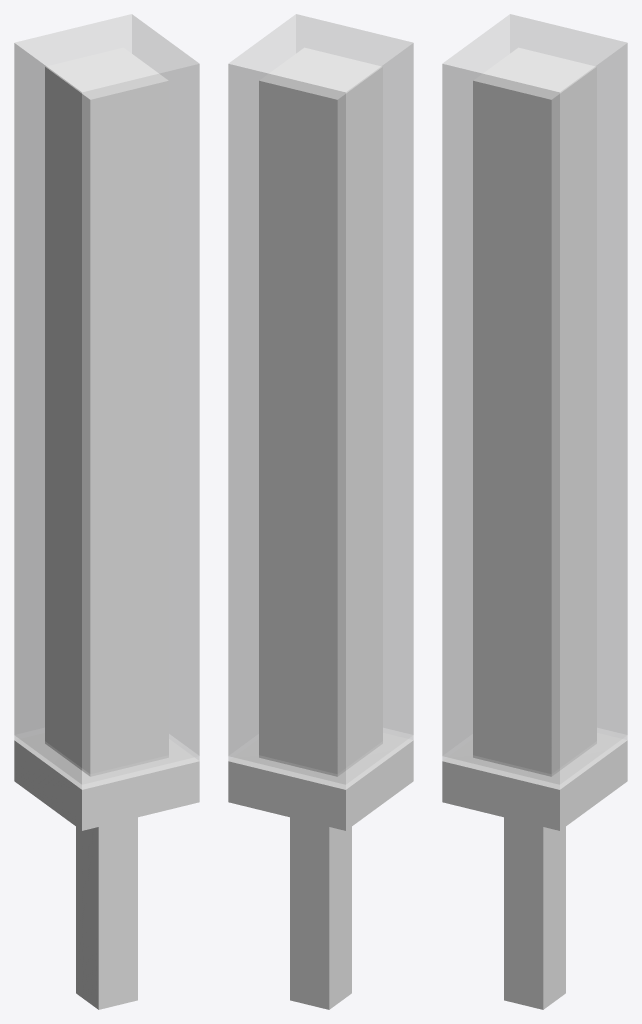
File: laser_blade.obj
3 renders of one model, left to right at view 1: azimuth 30°, elevation 25°; view 2: azimuth 150°, elevation 25°; view 3: azimuth 330°, elevation 25°, orthographic.
Parts seen in each view (by area): view 1: blade_out_0, blade_out_2, blade_out_1, hilt, blade_mid_2, blade_mid_0; view 2: blade_out_0, blade_out_2, blade_out_1, blade_mid_2, hilt, blade_mid_0; view 3: blade_out_0, blade_out_2, blade_out_1, blade_mid_2, hilt, blade_mid_0.
Boxes of the visible parts, x1,y1,x2,y2 form: blade_out_0: [14, 14, 199, 789]; blade_out_2: [14, 14, 199, 784]; blade_out_1: [45, 48, 168, 776]; hilt: [14, 733, 199, 1009]; blade_mid_2: [45, 55, 168, 766]; blade_mid_0: [53, 122, 167, 767]; blade_out_0: [228, 14, 413, 789]; blade_out_2: [228, 14, 413, 784]; blade_out_1: [259, 47, 382, 776]; blade_mid_2: [259, 51, 382, 766]; hilt: [228, 733, 413, 1009]; blade_mid_0: [290, 167, 382, 761]; blade_out_0: [442, 14, 627, 789]; blade_out_2: [442, 14, 627, 784]; blade_out_1: [473, 47, 596, 776]; blade_mid_2: [473, 49, 596, 766]; hilt: [442, 733, 627, 1009]; blade_mid_0: [504, 72, 596, 761].
Bounding box in the file's own units: 0.186 × 1.43 × 0.186.
